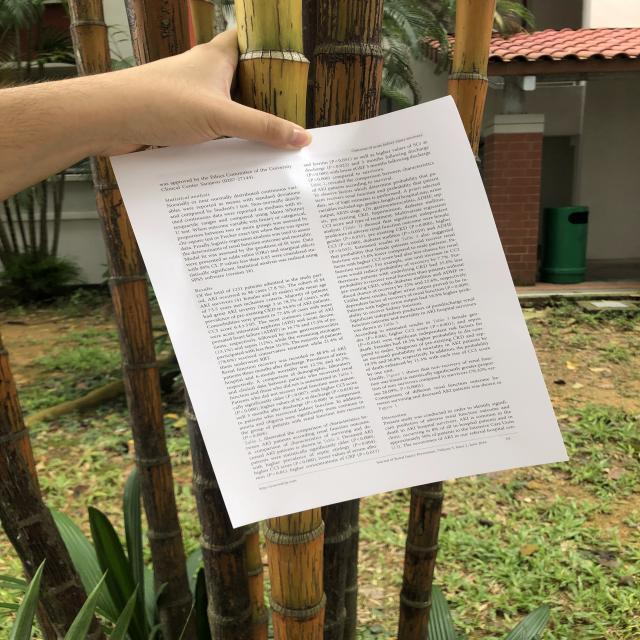document: (113, 98, 567, 526)
